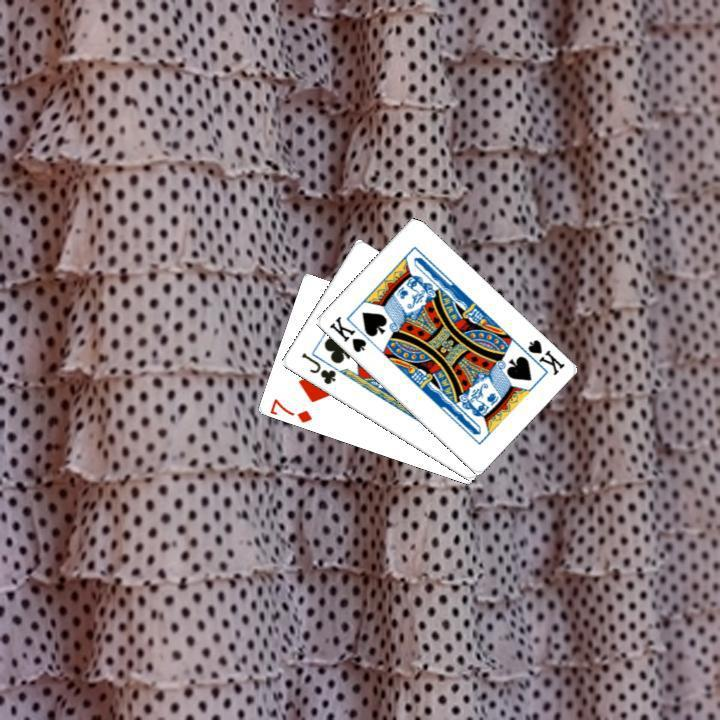7: (266, 394, 314, 425)
J: (296, 348, 338, 387)
K: (514, 335, 566, 378), (324, 312, 368, 355)
